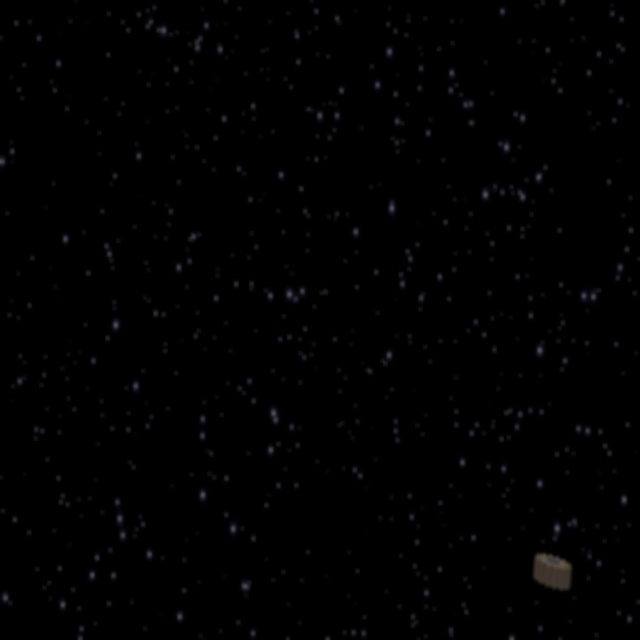large_debris: (531, 551, 573, 592)
